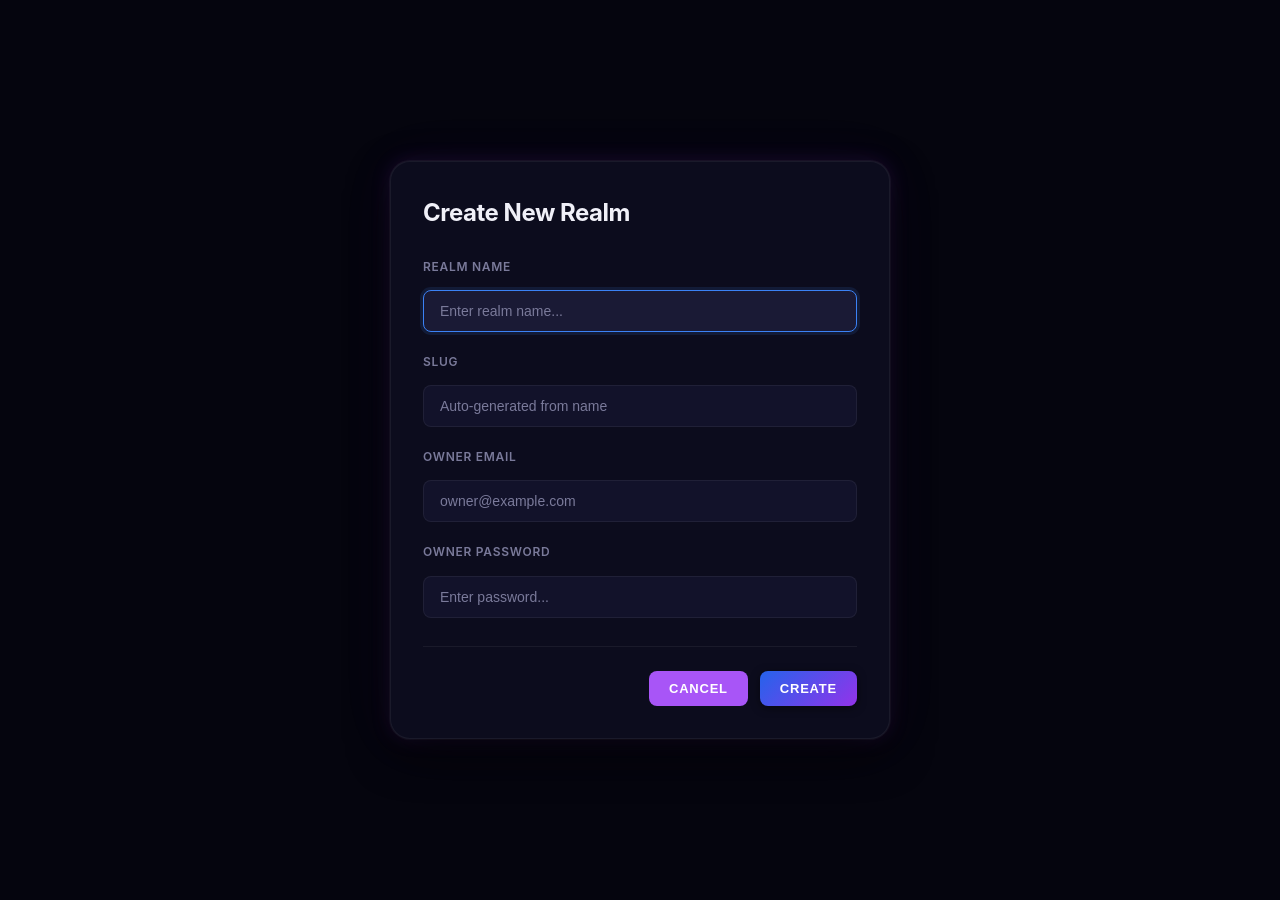
Test: CreateRealmModal › should auto-generate slug from name
This screenshot has width=1280, height=900.
Type "My Test Realm" into the field labelled "Realm Name" at (640, 311), box top-left (423, 290), bottom-right (857, 332)
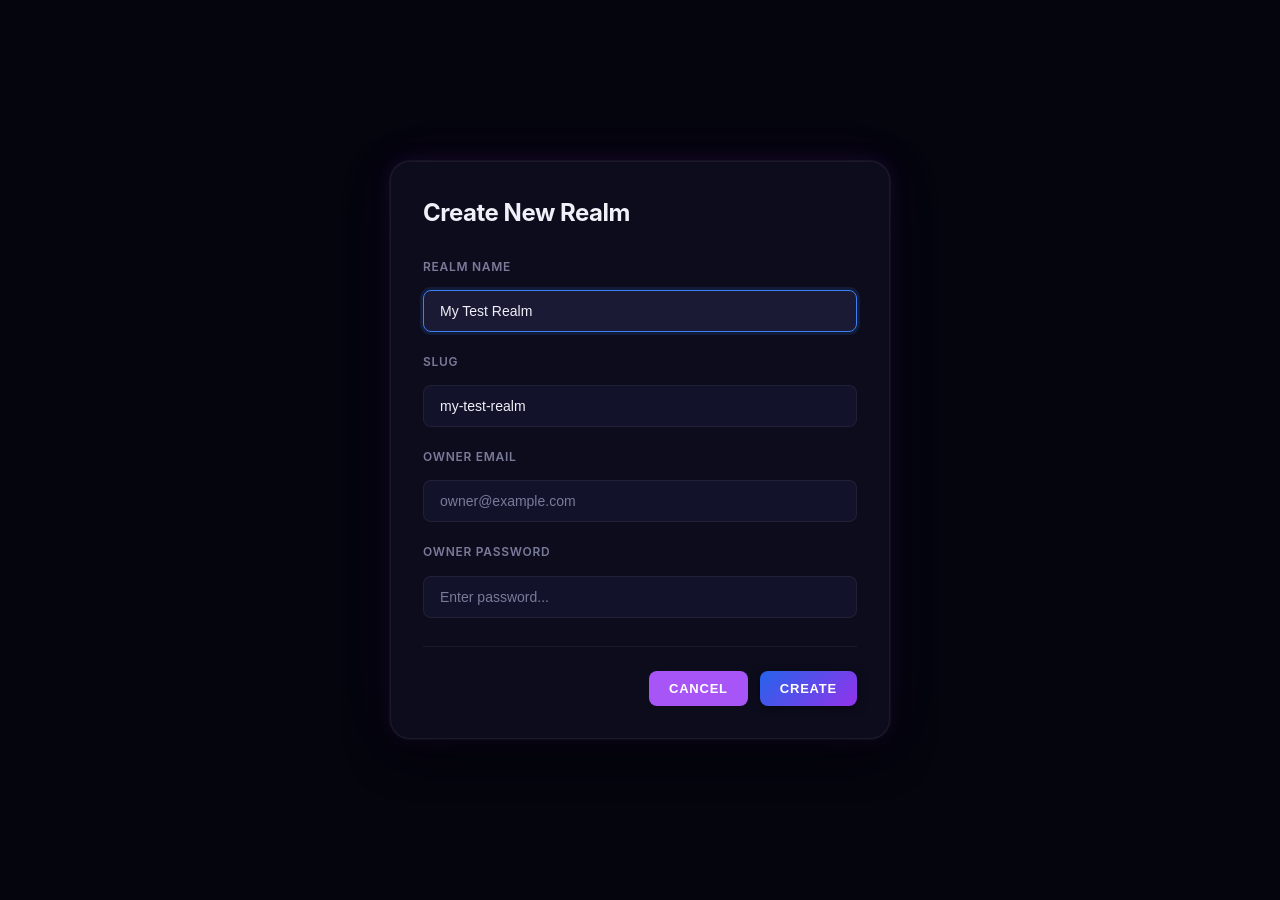
Result: the field showing "my-test-realm" is shown at top-left (423, 385), bottom-right (857, 427)
